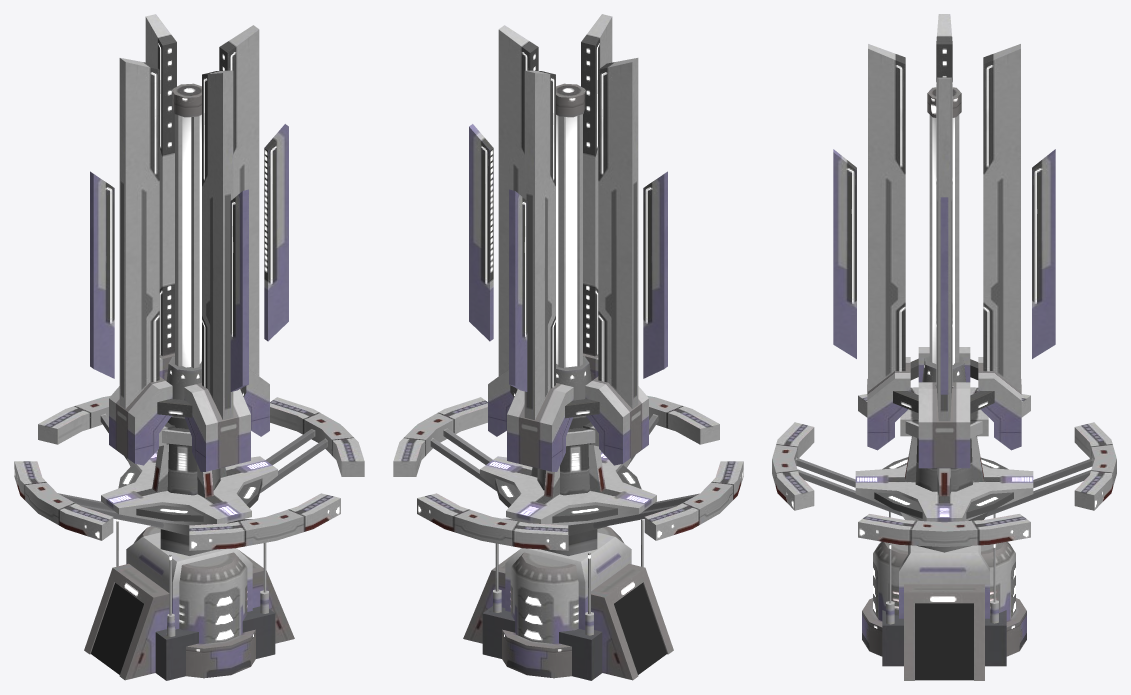
The picture shows the model from 3 angles, left to right: view 1: azimuth 30°, elevation 25°; view 2: azimuth 150°, elevation 25°; view 3: azimuth 270°, elevation 25°; orthographic projection.
Visible parts, largest first — view 1: turret-plasma-ground; view 2: turret-plasma-ground; view 3: turret-plasma-ground.
Boxes of the visible parts, bbox=[...] form: turret-plasma-ground: bbox=[14, 14, 364, 680]; turret-plasma-ground: bbox=[393, 14, 743, 680]; turret-plasma-ground: bbox=[772, 14, 1116, 680].
Size of the model in its own units: 5.35 by 10.24 by 5.35.
2 materials, 1 textured.
